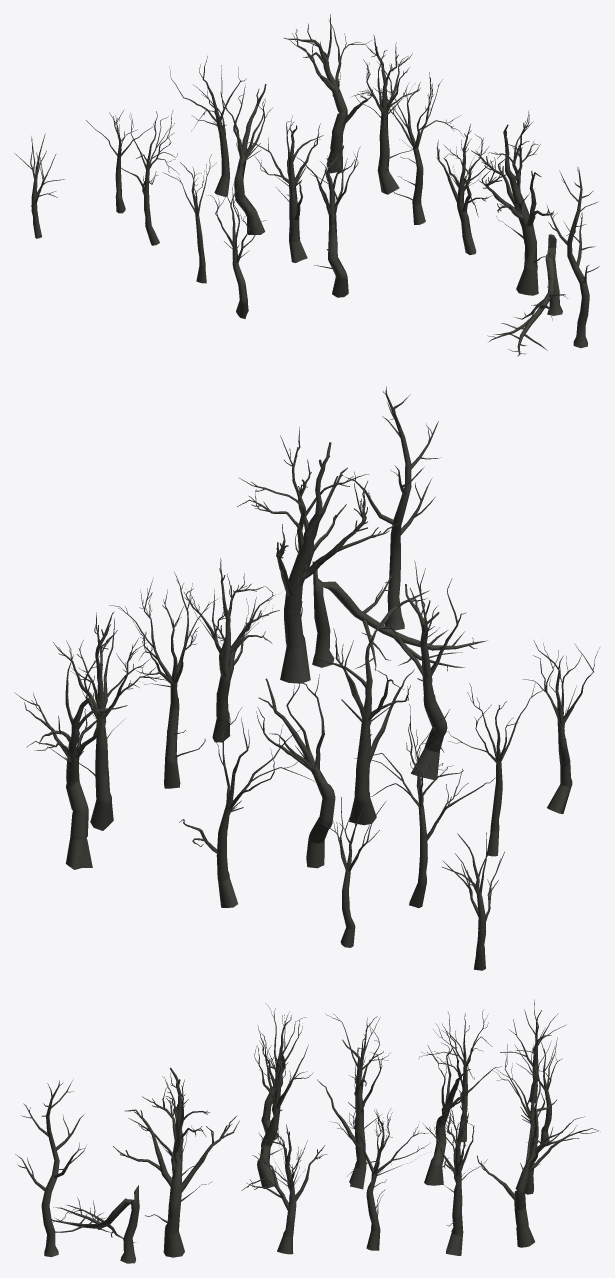
Rendered from trees.fbx.
The picture shows the model from 3 angles, top to bottom: view 1: azimuth 30°, elevation 25°; view 2: azimuth 150°, elevation 25°; view 3: azimuth 270°, elevation 25°; orthographic projection. The views are drawn at different scales.
Parts seen in each view (by area): view 1: tree_3, tree_7, tree_6, tree_8, tree_9, tree_10, tree_1, tree_5, tree_4, tree_2, tree_11, tree_12 (+4 smaller); view 2: tree_3, tree_7, tree_6, tree_9, tree_2, tree_8, tree_1, tree_10, tree_4, tree_5, tree_11, tree_14 (+4 smaller); view 3: tree_3, tree_7, tree_6, tree_4, tree_1, tree_8, tree_9, tree_5, tree_2, tree_10, tree_14, tree_11 (+4 smaller).
Boxes of the visible parts, <box> form: tree_3: <box>471,111,553,295</box>; tree_7: <box>283,14,372,173</box>; tree_6: <box>350,35,420,194</box>; tree_8: <box>295,145,360,297</box>; tree_9: <box>242,115,323,262</box>; tree_10: <box>220,84,272,234</box>; tree_1: <box>547,167,599,348</box>; tree_5: <box>381,72,464,224</box>; tree_4: <box>436,124,494,254</box>; tree_2: <box>487,234,567,356</box>; tree_11: <box>169,56,246,196</box>; tree_12: <box>206,178,266,318</box>; tree_3: <box>237,427,402,683</box>; tree_7: <box>14,657,127,869</box>; tree_6: <box>53,611,170,830</box>; tree_9: <box>315,618,414,825</box>; tree_2: <box>312,561,487,671</box>; tree_8: <box>372,560,466,779</box>; tree_1: <box>344,386,440,630</box>; tree_10: <box>256,674,335,868</box>; tree_4: <box>184,558,279,742</box>; tree_5: <box>109,572,218,788</box>; tree_11: <box>179,707,317,907</box>; tree_14: <box>354,704,495,908</box>; tree_3: <box>113,1067,239,1257</box>; tree_7: <box>477,1092,600,1247</box>; tree_6: <box>422,1091,487,1255</box>; tree_4: <box>241,1124,327,1254</box>; tree_1: <box>15,1078,86,1257</box>; tree_8: <box>254,1034,313,1188</box>; tree_9: <box>317,1039,383,1189</box>; tree_5: <box>329,1106,430,1250</box>; tree_2: <box>51,1185,139,1263</box>; tree_10: <box>424,1042,501,1185</box>; tree_14: <box>418,1010,492,1141</box>; tree_11: <box>492,1041,584,1194</box>.
Size of the model in its own units: 38.87 by 19.8 by 56.66.
